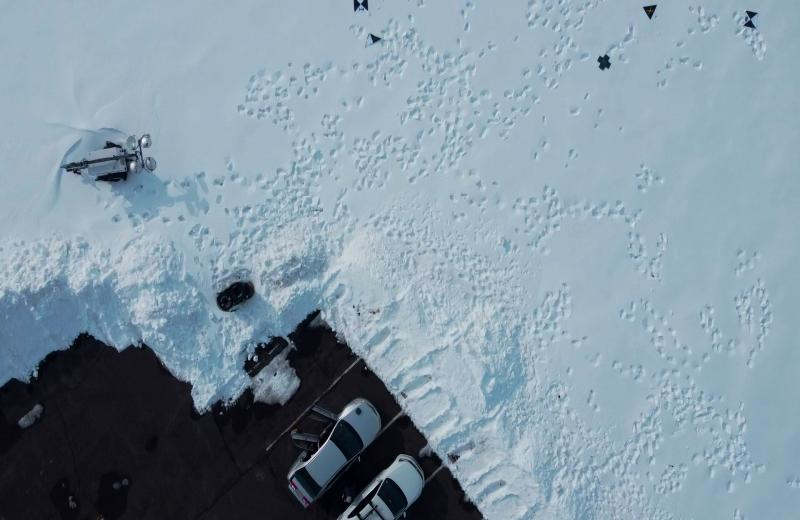Cross: (596, 52, 614, 72)
Triangle: (642, 4, 658, 21)
